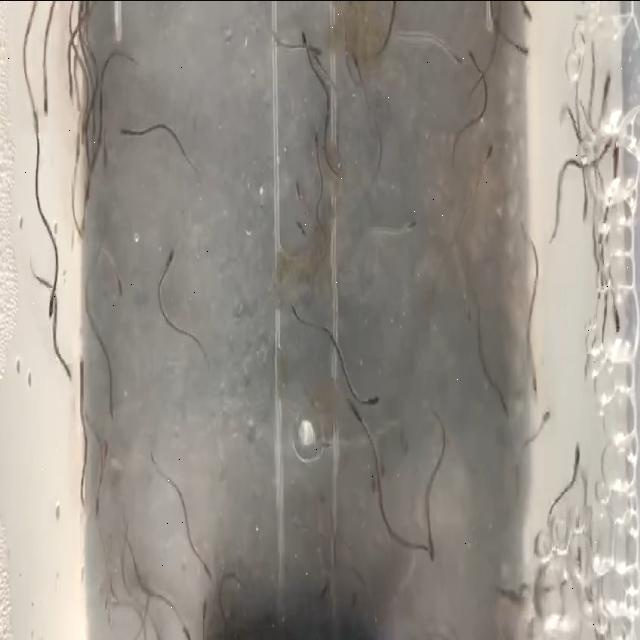active_glass_eel: (492, 377, 520, 431), (460, 30, 482, 87), (478, 132, 503, 182), (422, 530, 443, 582), (402, 199, 417, 268), (603, 128, 625, 174), (41, 286, 62, 332), (290, 168, 306, 220), (112, 115, 136, 149), (160, 243, 184, 276), (102, 124, 115, 184), (447, 46, 467, 82), (608, 314, 630, 346), (196, 590, 214, 628), (110, 275, 130, 309), (534, 402, 555, 432), (348, 46, 364, 84), (94, 498, 108, 540), (66, 72, 80, 114), (573, 438, 587, 480), (516, 37, 534, 69), (78, 347, 92, 387), (368, 383, 386, 414), (600, 68, 614, 106), (199, 551, 217, 580), (526, 373, 544, 401), (39, 97, 56, 126), (296, 24, 310, 59), (308, 122, 322, 154), (82, 176, 94, 212), (61, 362, 75, 391), (312, 38, 324, 64), (176, 620, 191, 640)
